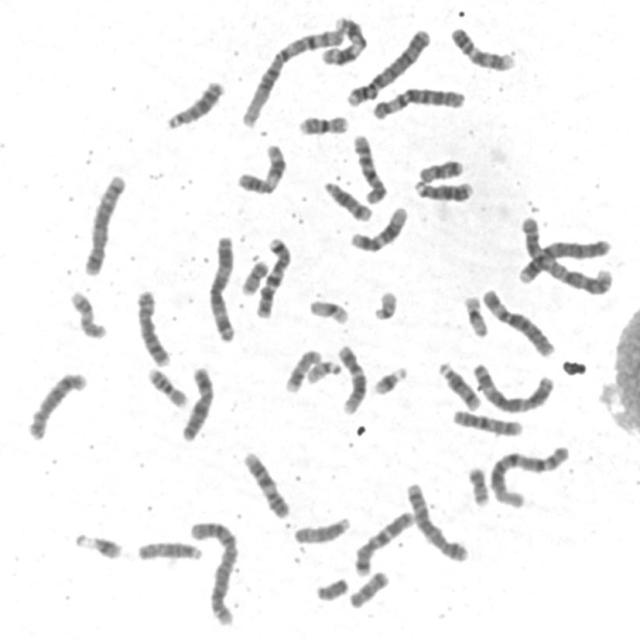A1: (236, 21, 345, 128), (484, 440, 572, 510)
A2: (516, 210, 615, 296), (185, 514, 239, 627)
A3: (468, 357, 556, 415), (203, 229, 238, 343)
B4: (342, 22, 433, 108), (514, 232, 614, 285)
B5: (401, 476, 470, 564), (78, 167, 128, 277)
C10: (347, 128, 389, 205), (448, 404, 526, 438)
C11: (231, 138, 288, 196), (317, 11, 368, 66)
C12: (345, 200, 410, 253), (334, 340, 368, 415)
C6: (478, 282, 557, 358), (366, 81, 466, 121)
C7: (349, 505, 416, 578), (250, 231, 293, 320)
C8: (22, 366, 89, 442), (130, 284, 172, 368)
C9: (238, 446, 292, 520), (446, 21, 517, 72)
D13: (160, 73, 226, 131), (410, 174, 476, 203)
D14: (433, 356, 483, 412), (317, 175, 375, 222)
D15: (289, 511, 352, 546), (131, 536, 206, 564)
E16: (143, 362, 190, 409), (293, 110, 351, 136)
E17: (65, 284, 108, 341), (280, 344, 323, 394)
E18: (343, 564, 391, 610), (413, 153, 465, 184)
F19: (458, 290, 491, 338), (304, 294, 352, 326)
F20: (236, 255, 271, 296), (463, 461, 492, 508)
G21: (69, 525, 125, 562), (368, 360, 410, 397)
G22: (301, 355, 344, 386), (368, 284, 399, 322)
X: (176, 361, 216, 443)
Y: (310, 572, 350, 602)
